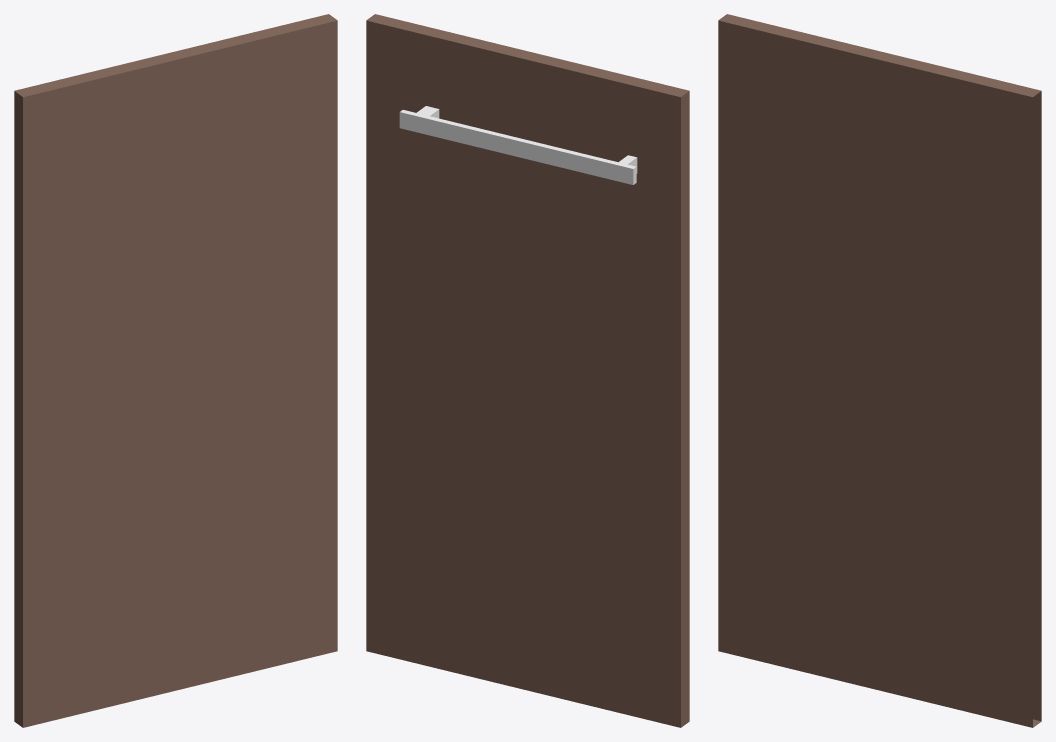
Rendered from cabinet_wood_right_door.glb.
3 views of the same model, side by side, from view 1: azimuth 30°, elevation 25°; view 2: azimuth 150°, elevation 25°; view 3: azimuth 330°, elevation 25° (orthographic).
Visible parts, largest first — view 1: ABA 1; view 2: ABA 1; view 3: ABA 1.
Boxes of the visible parts, x1,y1,x2,y2 form: ABA 1: [14, 14, 337, 727]; ABA 1: [366, 14, 689, 727]; ABA 1: [718, 14, 1041, 727].
Bounding box in the file's own units: 1.76 × 3.37 × 0.2111.
